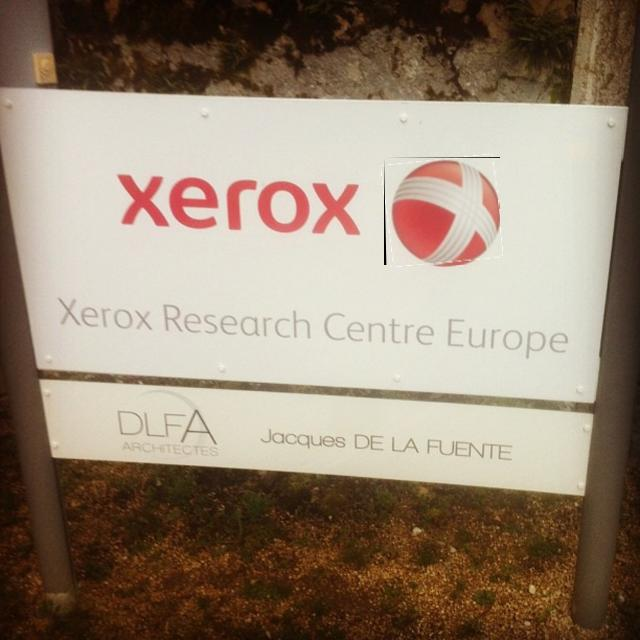Football: (384, 157, 500, 265)
